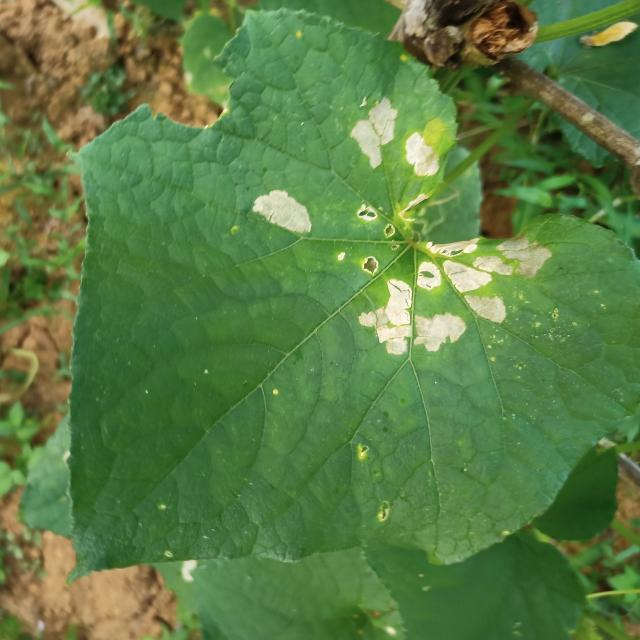disease_cucumber: (354, 234, 554, 355), (348, 96, 400, 171), (247, 184, 315, 240), (402, 130, 441, 180), (352, 201, 396, 240)
